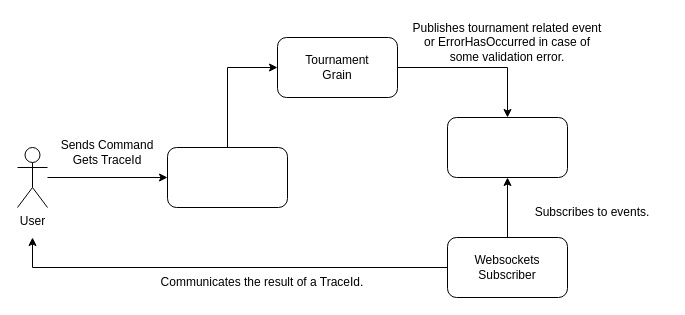
The diagram is 685 pixels wide and 315 high, and some of its shapes have lost their labels. The shapes that lost their labels are listed below. From the top down, each one's centre as x and y in pixels, then its label:
At point (507, 147): "Orleans Stream".
At point (227, 177): "API".
